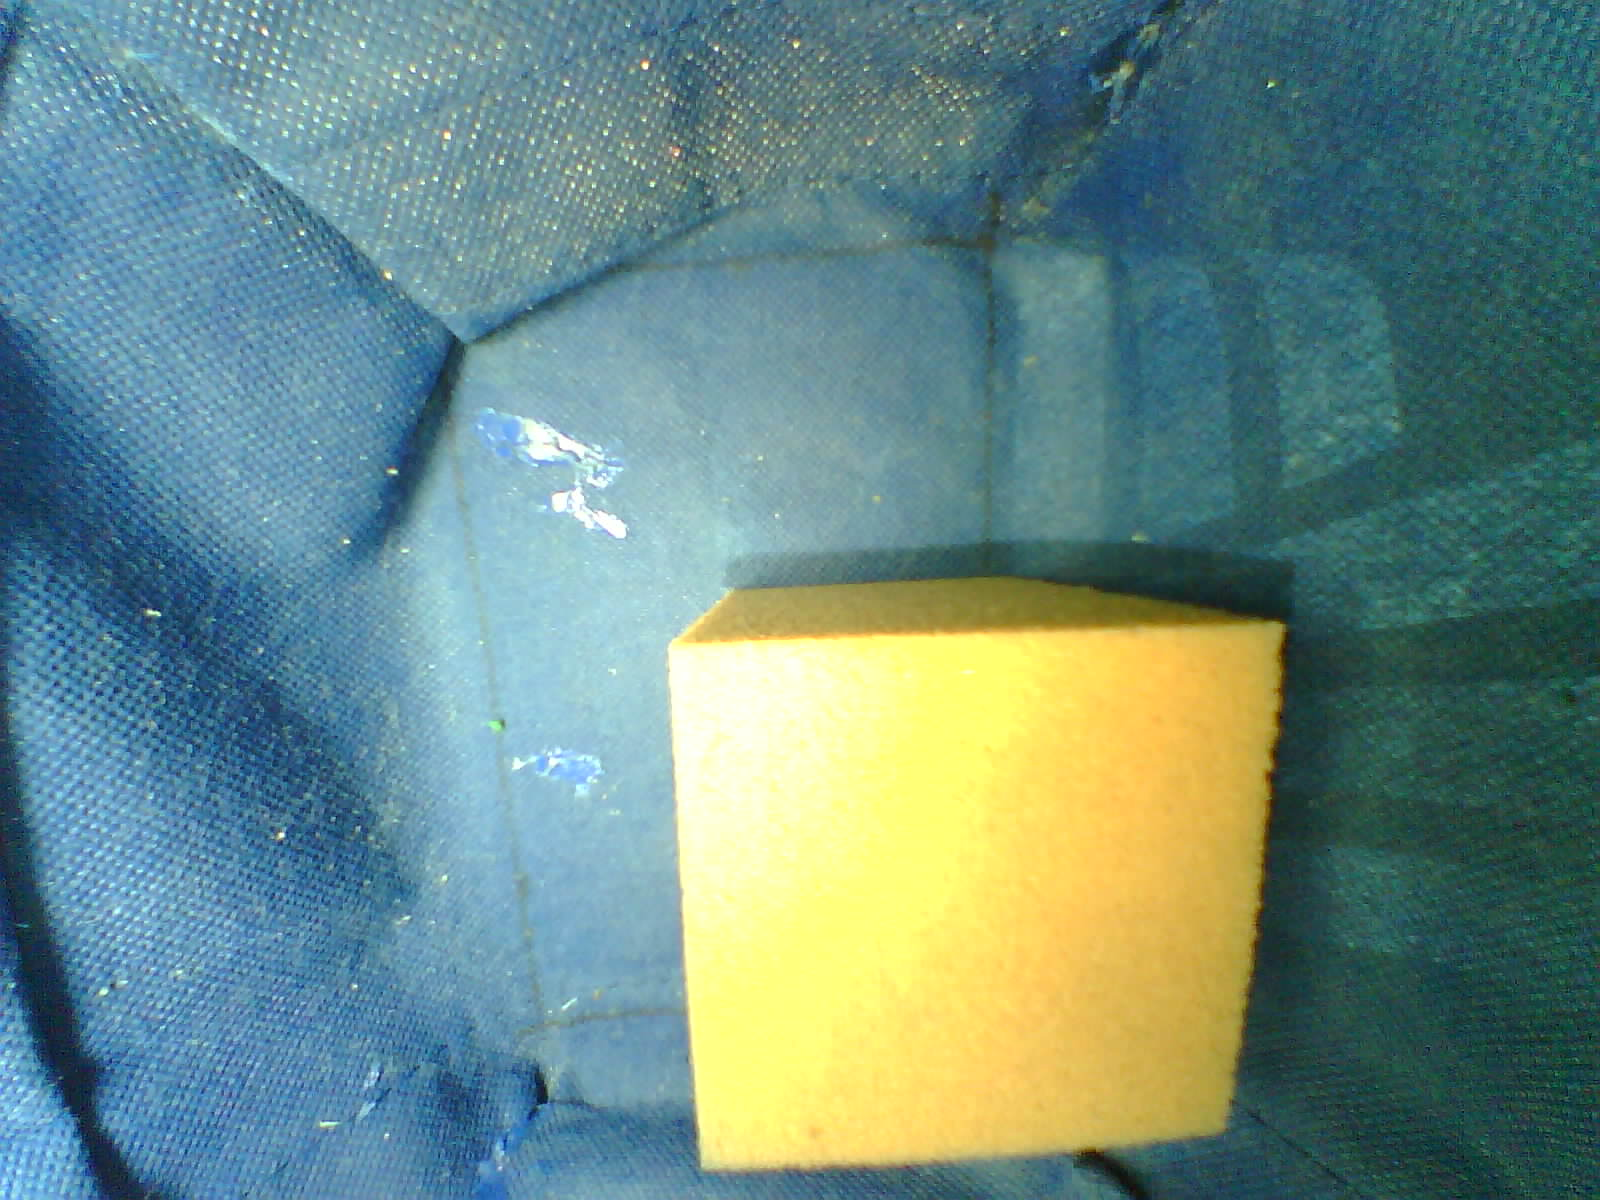cube-soft: (639, 571, 1305, 1194)
